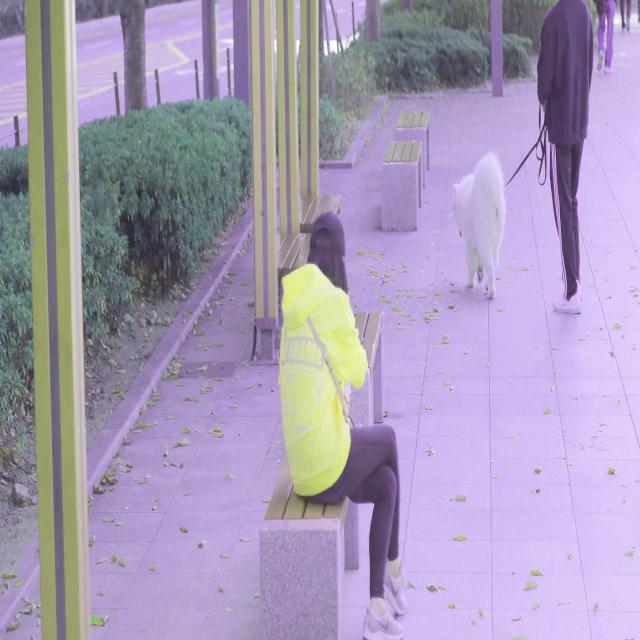Leashed_Dog: (452, 116, 568, 299)
